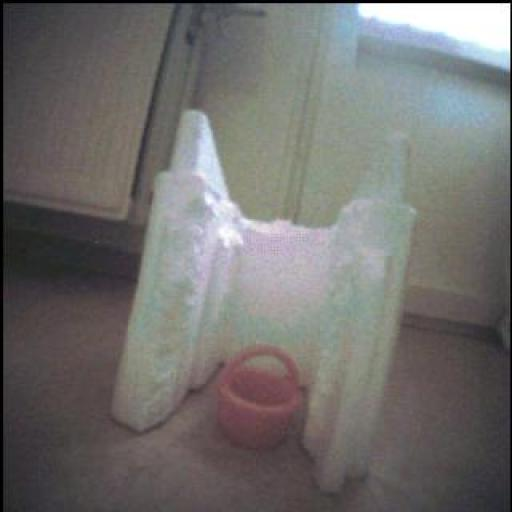Basket: (219, 347, 302, 449)
